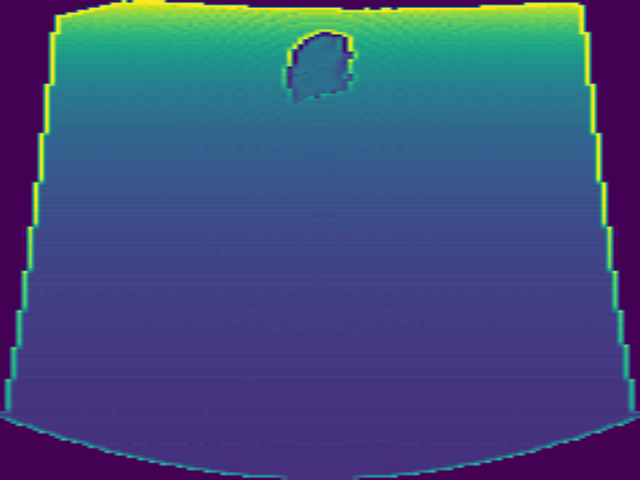car_0027: (282, 30, 357, 103)
